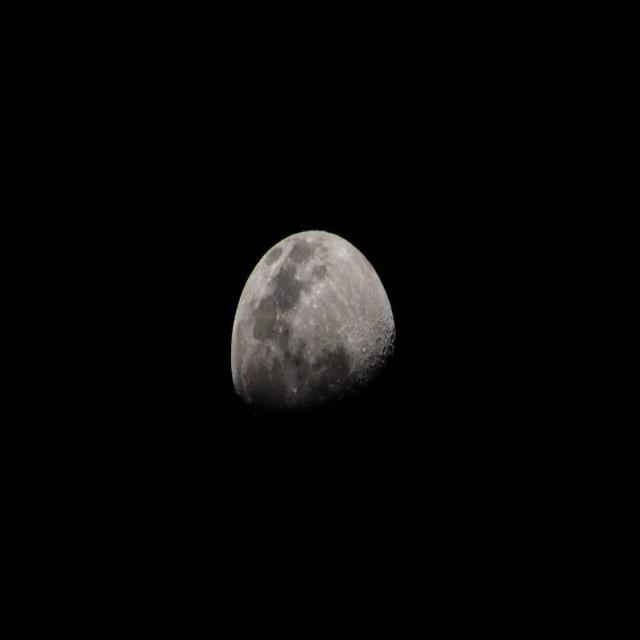moon: (226, 216, 403, 447)
